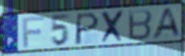5: (49, 12, 72, 47)
A: (151, 7, 183, 41)
B: (127, 8, 154, 42)
F: (21, 15, 46, 49)
P: (73, 11, 101, 46)
X: (101, 9, 127, 45)
